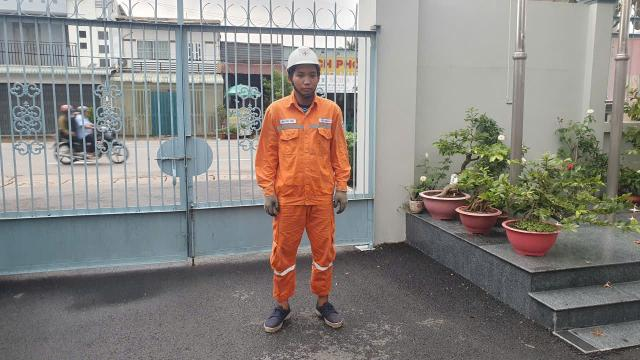gloves: (258, 186, 284, 220), (334, 177, 352, 217)
helmet: (282, 38, 331, 76)
shoes: (311, 302, 352, 332), (259, 301, 293, 335)
